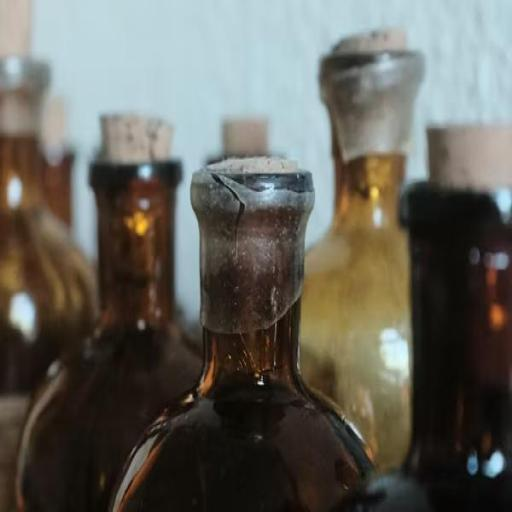bottle: (108, 144, 398, 512), (23, 101, 200, 512)
